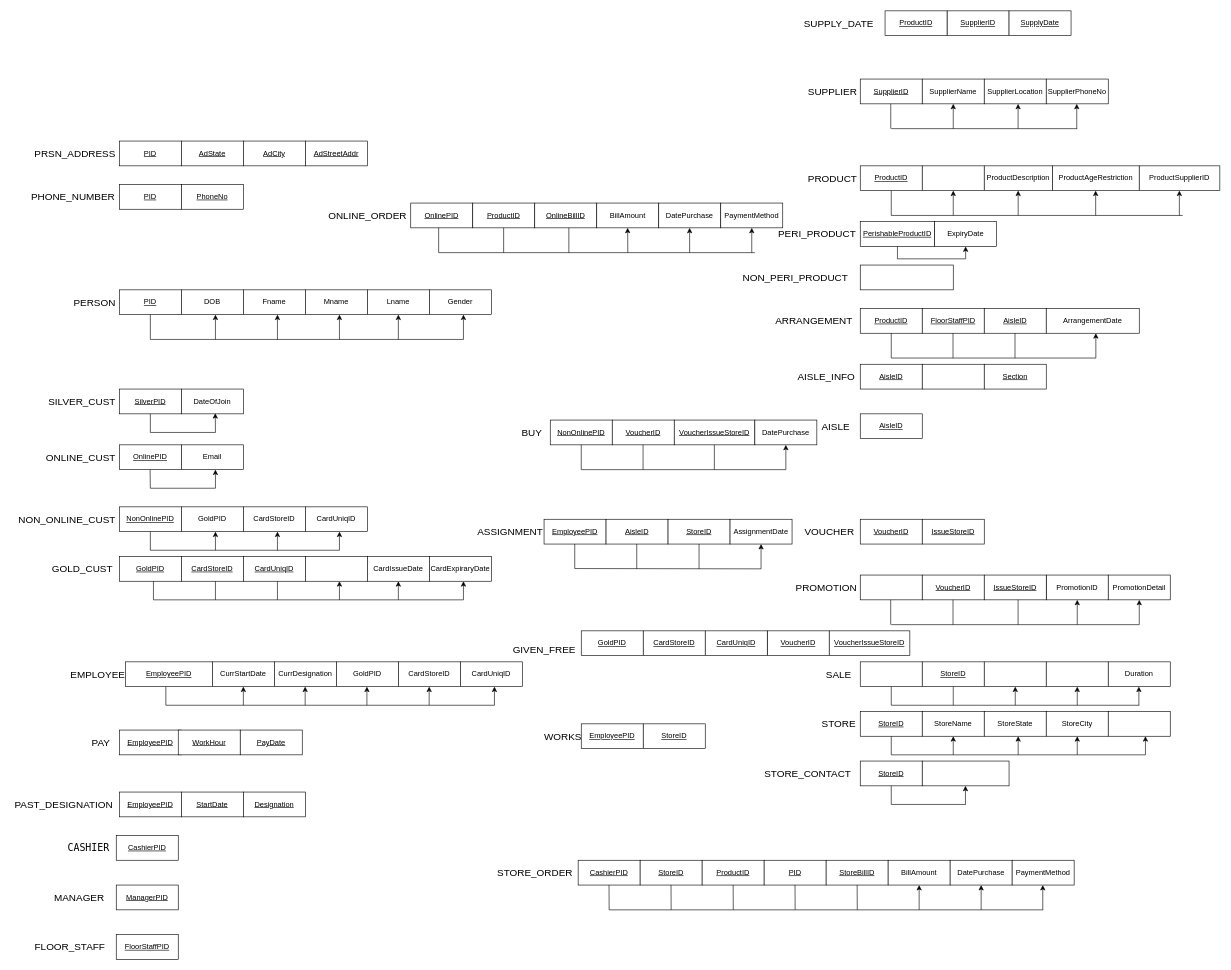
Image size: 1231x970. Some labels were removed from this diagram. Each missing label, with the box of its shape:
AisleNumber: (922, 364, 984, 389)
CardInfo: (305, 556, 367, 581)
NonPerishableProductID: (860, 264, 953, 290)
ProductQuantity: (922, 165, 984, 191)
PromotionNum: (860, 574, 922, 600)
SaleDescription: (1046, 661, 1108, 687)
SaleID: (984, 661, 1046, 687)
SaleNum: (860, 661, 922, 687)
StorePhoneNo: (922, 760, 1009, 786)
StoreStreet: (1108, 711, 1170, 736)
